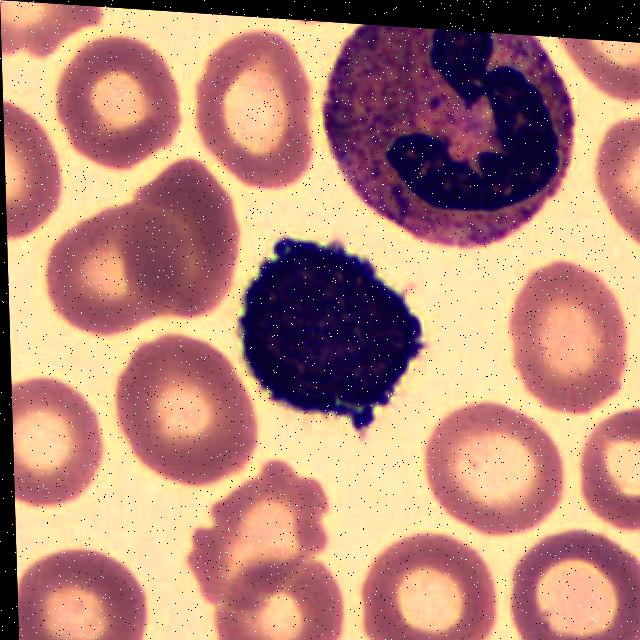eosinophil: (305, 20, 597, 267)
lymphocyte: (241, 230, 434, 429)
rbc: (184, 458, 340, 609), (120, 334, 250, 492), (512, 269, 627, 421), (121, 171, 234, 316), (422, 413, 558, 532), (45, 207, 161, 335), (58, 43, 175, 166), (201, 46, 314, 173), (362, 536, 494, 640), (510, 540, 640, 640), (11, 378, 103, 512), (16, 547, 147, 640), (216, 559, 335, 640), (579, 397, 640, 536), (3, 100, 58, 252), (589, 112, 640, 250), (0, 0, 104, 67), (557, 37, 640, 109), (117, 8, 183, 23)
